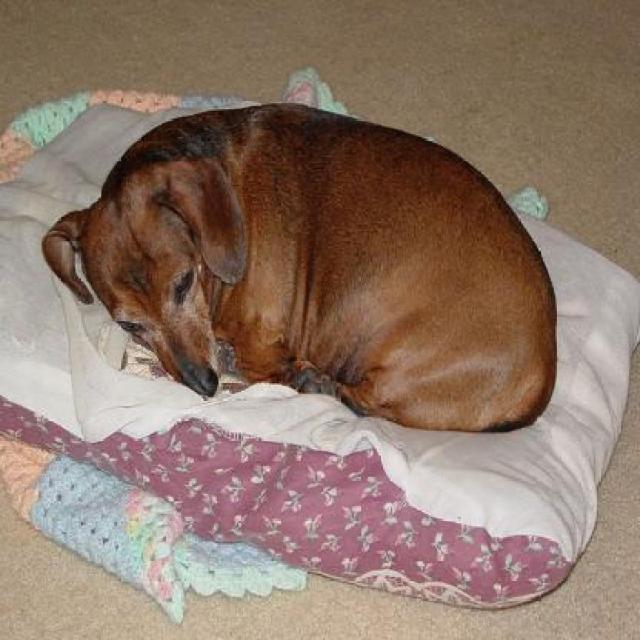Dog: (37, 101, 561, 428)
